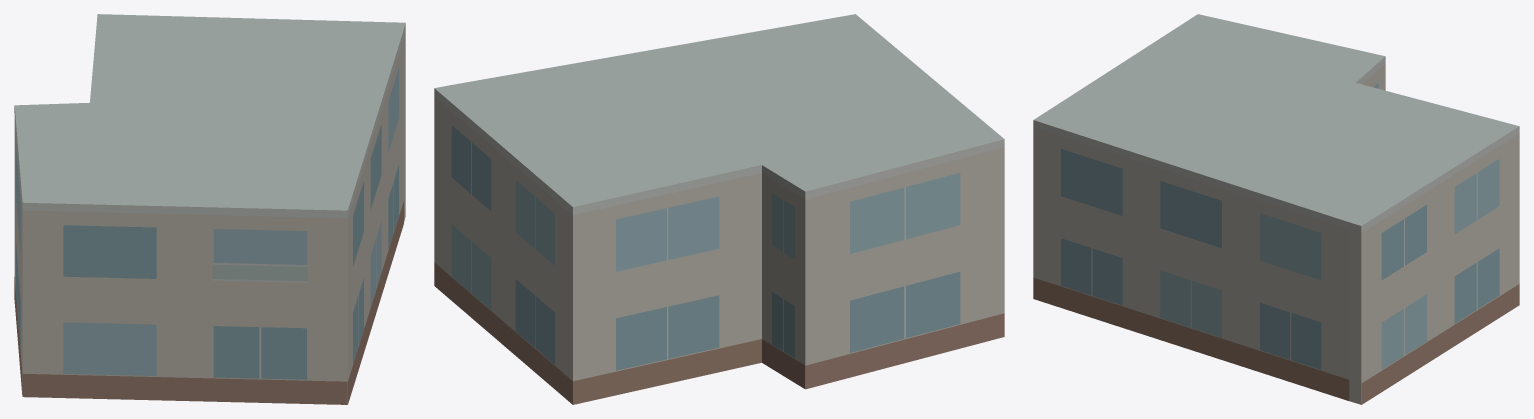
Rendered from survey-upis-32835871.glb.
3 renders of one model, left to right at view 1: azimuth 30°, elevation 25°; view 2: azimuth 150°, elevation 25°; view 3: azimuth 270°, elevation 25°, orthographic. The views are drawn at different scales.
Parts seen in each view (by area): view 1: survey-upis-32835871.tmp; view 2: survey-upis-32835871.tmp; view 3: survey-upis-32835871.tmp.
Boxes of the visible parts, x1=… form: survey-upis-32835871.tmp: x1=14, y1=14, x2=405, y2=404; survey-upis-32835871.tmp: x1=434, y1=14, x2=1004, y2=404; survey-upis-32835871.tmp: x1=1033, y1=14, x2=1519, y2=404.
Bounding box in the file's own units: 15.51 × 6.1 × 15.03.
